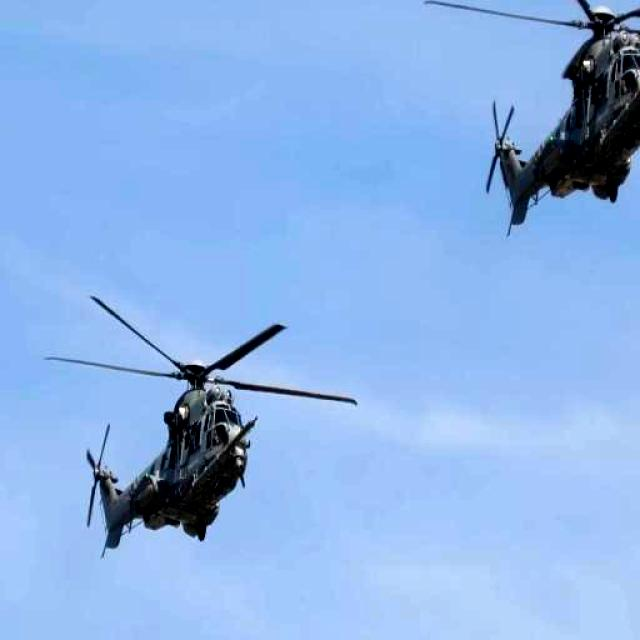drone: (79, 272, 312, 561), (489, 0, 640, 259)
